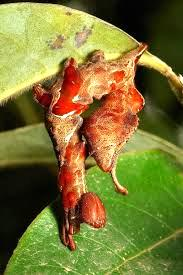Lobster Moth: (33, 40, 149, 247)
